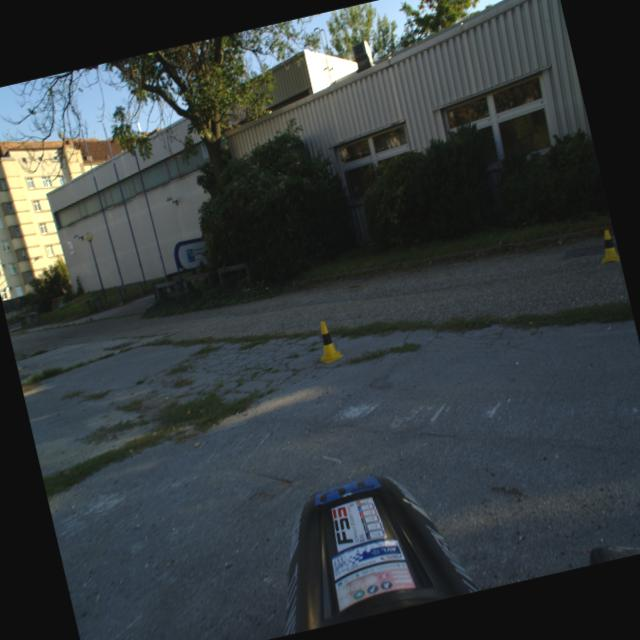yellow_cone: (310, 318, 344, 364), (594, 227, 620, 264)
